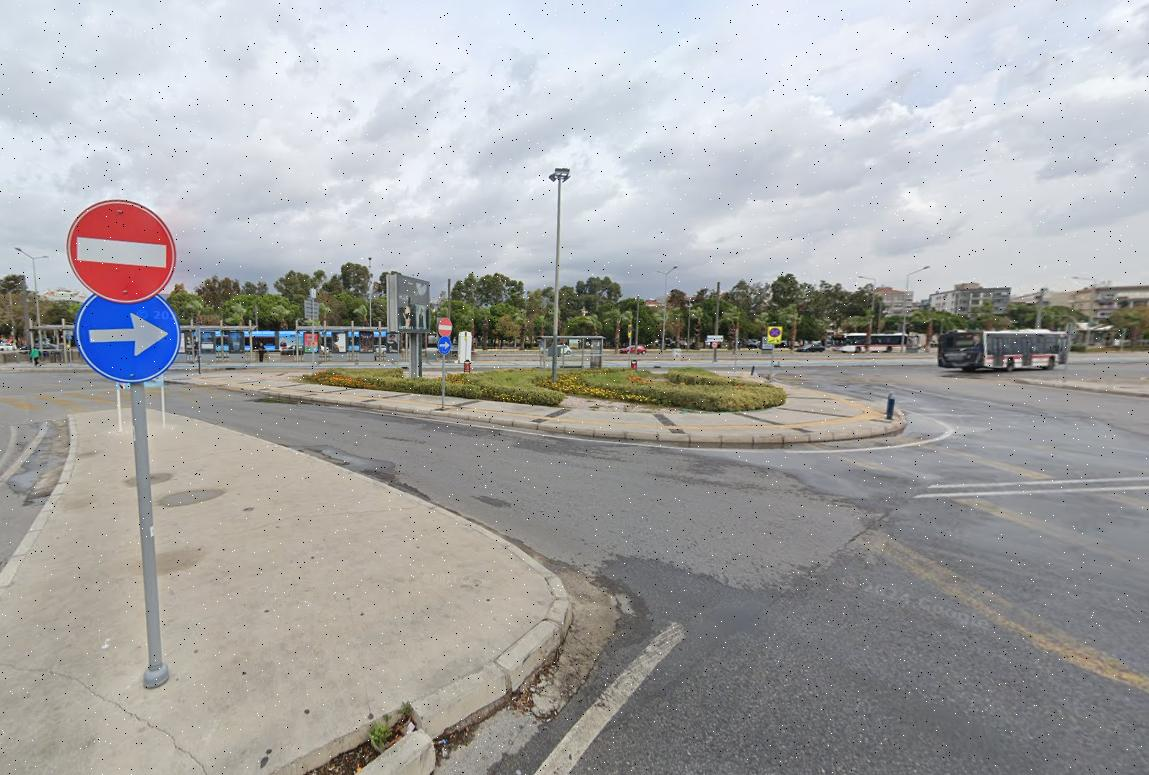turnright: (78, 294, 180, 381)
